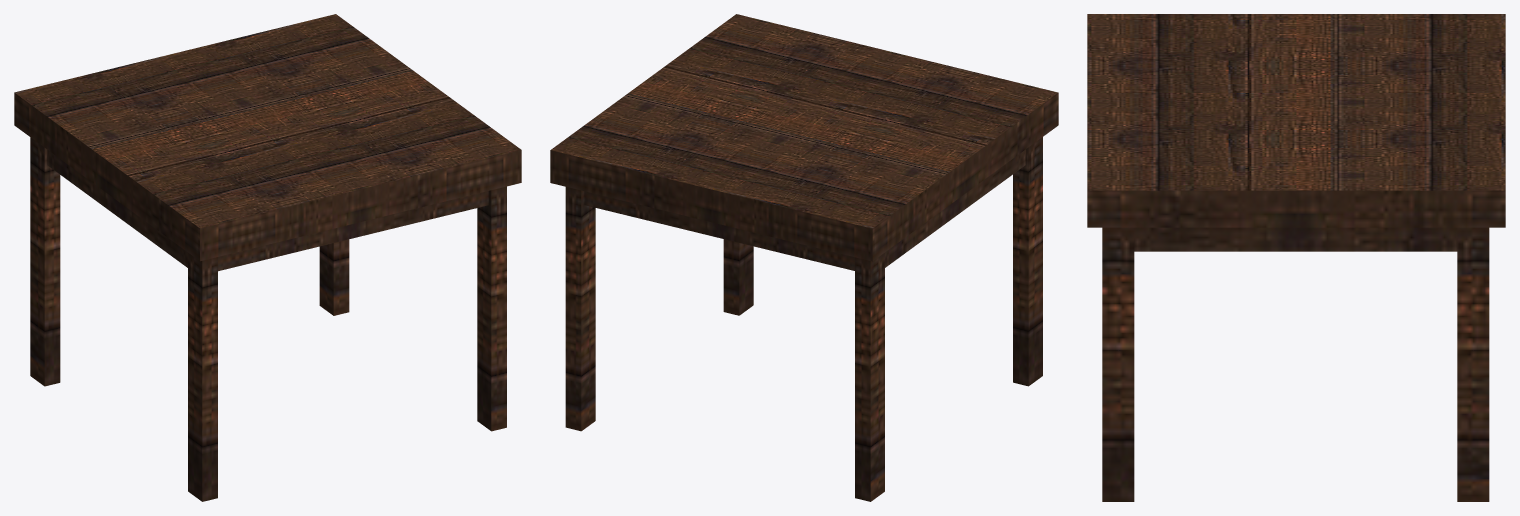
Rendered from mesacuadrada.fbx.
The picture shows the model from 3 angles, left to right: view 1: azimuth 30°, elevation 25°; view 2: azimuth 150°, elevation 25°; view 3: azimuth 270°, elevation 25°; orthographic projection. The views are drawn at different scales.
Parts seen in each view (by area): view 1: Cube.199; view 2: Cube.199; view 3: Cube.199.
Boxes of the visible parts, x1,y1,x2,y2 form: Cube.199: [14, 14, 521, 501]; Cube.199: [550, 14, 1058, 501]; Cube.199: [1087, 14, 1505, 501].
Bounding box in the file's own units: 193 × 160 × 193.
Materials: 1 (1 with a texture image).
